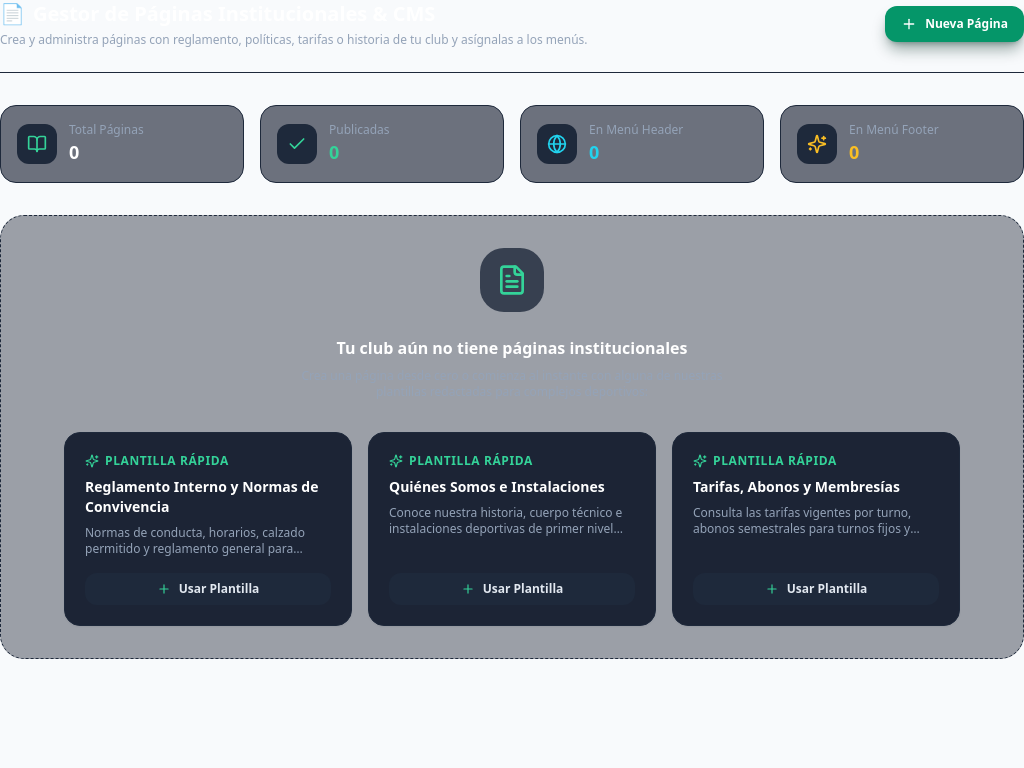
Test: GestionPaginasCMS - Gestor y Editor de Páginas Institucionales (Panel CMS) › renderiza correctamente el estado vacío y las plantillas rápidas de inicio cuando no hay páginas
Check: the heading "Tu club aún no tiene páginas institucionales" is shown, box [336,337,688,359]
Check: the heading "Reglamento Interno y Normas de Convivencia" is shown, box [85,477,331,517]
Note: Al hacer click en "Usar Plantilla", se debe abrir el modal con los datos precompletados
Click the button with test id "btn-starter-template-0": (208, 589) [85,573,331,605]
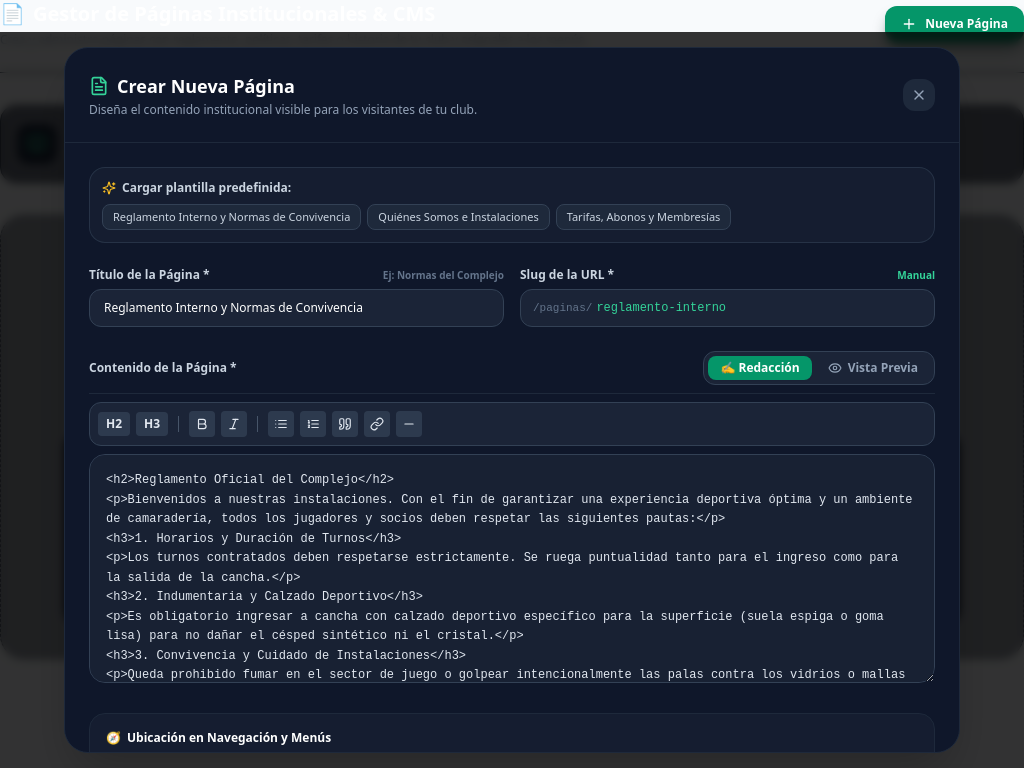
Check: the element with test id "modal-editor-pagina" is shown
Check: the field with test id "input-titulo-pagina" holds "Reglamento Interno y Normas de Convivencia", box [89,289,504,327]
Check: the field with test id "input-slug-pagina" holds "reglamento-interno", box [596,290,922,326]
